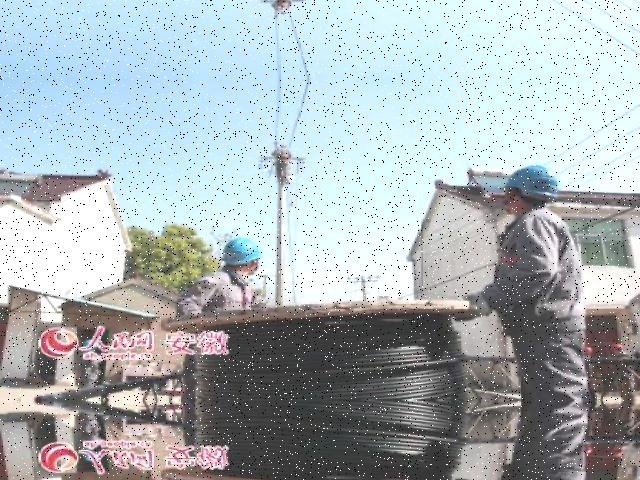Helmet: (493, 160, 564, 210), (216, 233, 262, 277)
